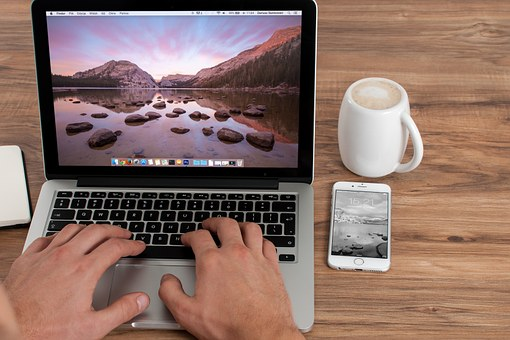mobile: (326, 178, 397, 278)
